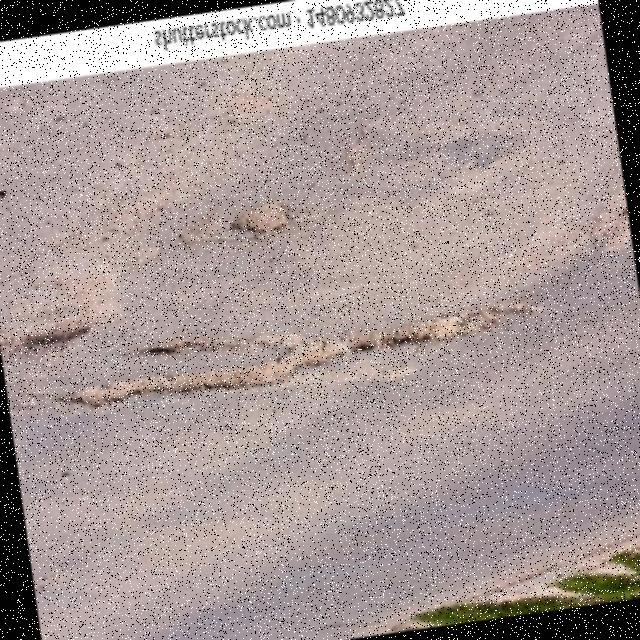Pothole: (62, 301, 528, 417)
